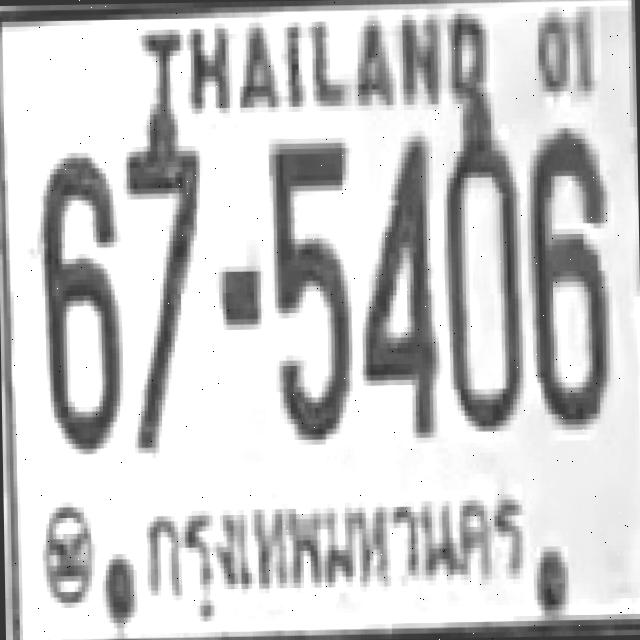0: (442, 118, 520, 426)
4: (357, 130, 435, 433)
5: (266, 137, 348, 434)
6: (35, 149, 117, 452), (525, 125, 607, 422)
7: (124, 121, 202, 450)
Bangkok: (121, 460, 536, 628)
